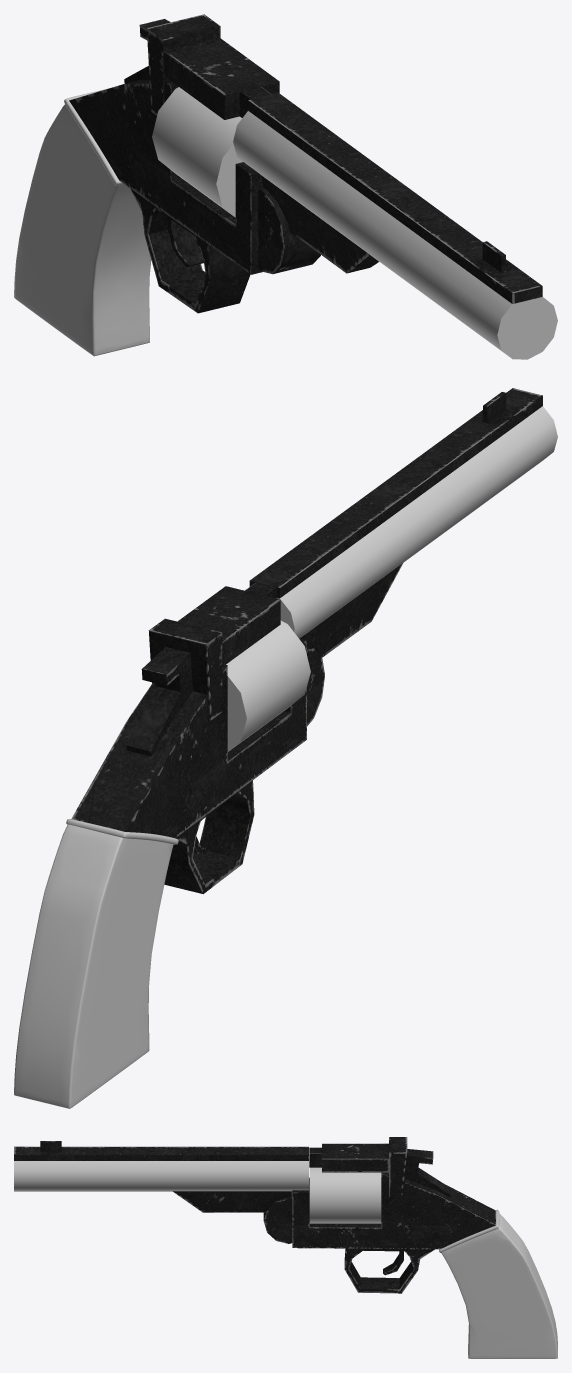
The model's file is Gun.fbx.
3 renders of one model, top to bottom at view 1: azimuth 30°, elevation 25°; view 2: azimuth 150°, elevation 25°; view 3: azimuth 270°, elevation 25°, orthographic. The views are drawn at different scales.
Visible parts, largest first — view 1: Gun_Free.002, Gun_Free, Gun_Free.001, Cube; view 2: Gun_Free.002, Gun_Free.001, Gun_Free; view 3: Gun_Free.002, Gun_Free, Gun_Free.001, Cube.
Part boxes in pixels (left/top/right/bottom): Gun_Free.002: left=69, top=14, right=542, bottom=313; Gun_Free: left=152, top=87, right=557, bottom=359; Gun_Free.001: left=14, top=104, right=151, bottom=356; Cube: left=64, top=88, right=123, bottom=185; Gun_Free.002: left=71, top=388, right=542, bottom=894; Gun_Free.001: left=14, top=824, right=173, bottom=1108; Gun_Free: left=226, top=406, right=557, bottom=751; Gun_Free.002: left=14, top=1137, right=495, bottom=1293; Gun_Free: left=14, top=1161, right=381, bottom=1223; Gun_Free.001: left=440, top=1213, right=557, bottom=1358; Cube: left=439, top=1209, right=499, bottom=1252.
Size of the model in its own units: 4.14 by 15.89 by 37.41.
